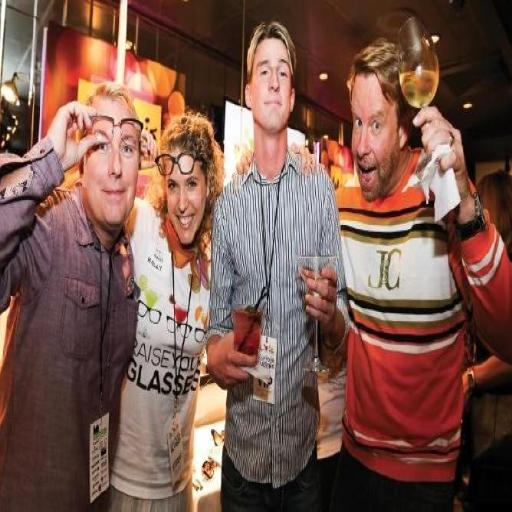person: (332, 39, 511, 511), (207, 22, 347, 511), (0, 83, 142, 511), (110, 111, 223, 511), (463, 336, 511, 510), (317, 361, 346, 511)
